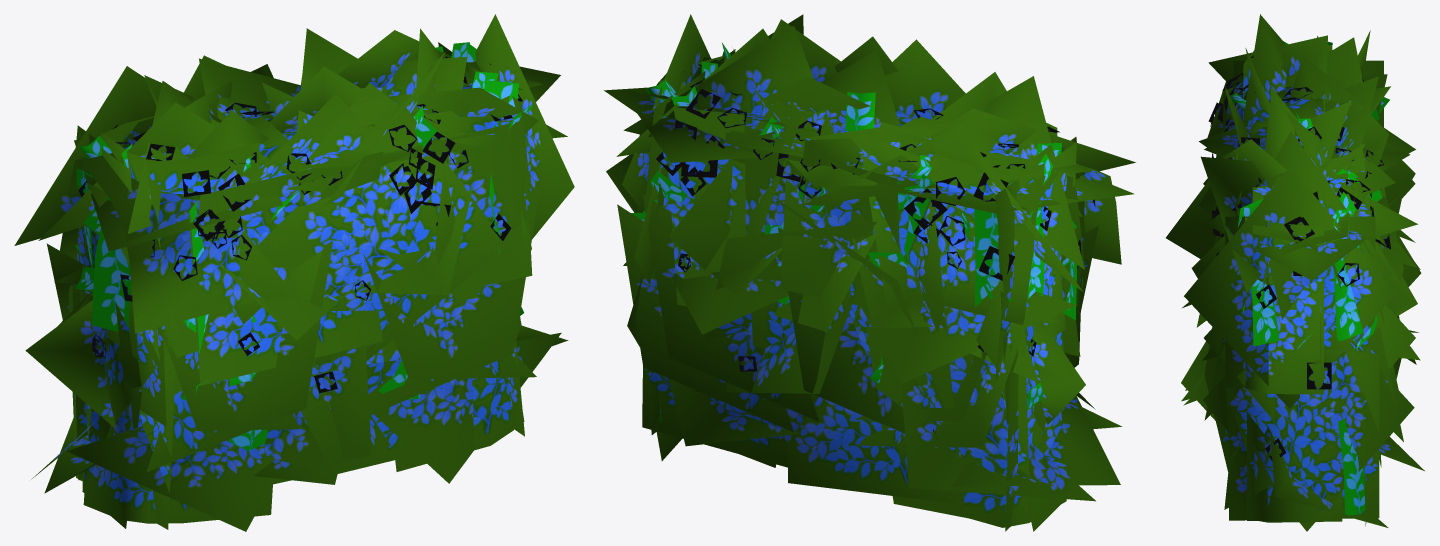
The model's file is Homeworld_Exterior_Common_Flower_Decoration_Greenwall_01_Lod0.fbx.
The picture shows the model from 3 angles, left to right: view 1: azimuth 30°, elevation 25°; view 2: azimuth 150°, elevation 25°; view 3: azimuth 270°, elevation 25°; orthographic projection. The views are drawn at different scales.
Visible parts, largest first — view 1: Homeworld_Exterior_Common_Flower_Decoration_Greenwall_01_A_L, Homeworld_Exterior_Common_Flower_Decoration_Greenwall_01_B_L; view 2: Homeworld_Exterior_Common_Flower_Decoration_Greenwall_01_A_L, Homeworld_Exterior_Common_Flower_Decoration_Greenwall_01_B_L; view 3: Homeworld_Exterior_Common_Flower_Decoration_Greenwall_01_A_L, Homeworld_Exterior_Common_Flower_Decoration_Greenwall_01_B_L.
Part boxes in pixels (box(x1,y1,x2,y2)): Homeworld_Exterior_Common_Flower_Decoration_Greenwall_01_A_L: box(14, 14, 574, 531); Homeworld_Exterior_Common_Flower_Decoration_Greenwall_01_B_L: box(78, 56, 522, 393); Homeworld_Exterior_Common_Flower_Decoration_Greenwall_01_A_L: box(604, 14, 1135, 531); Homeworld_Exterior_Common_Flower_Decoration_Greenwall_01_B_L: box(656, 64, 1095, 439); Homeworld_Exterior_Common_Flower_Decoration_Greenwall_01_A_L: box(1166, 14, 1424, 531); Homeworld_Exterior_Common_Flower_Decoration_Greenwall_01_B_L: box(1208, 55, 1390, 461).
Size of the model in its own units: 3.4 by 2.68 by 1.62.
